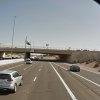Bridge: (5, 38, 78, 63)
